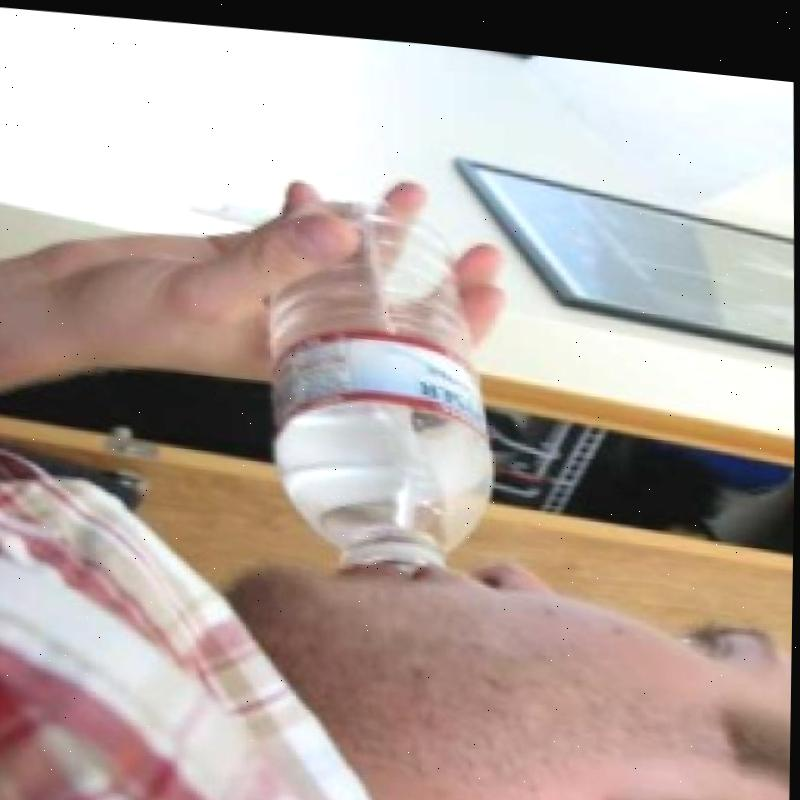botella: (260, 178, 499, 570)
